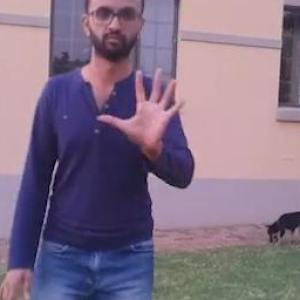follow_hand: (96, 59, 190, 154)
